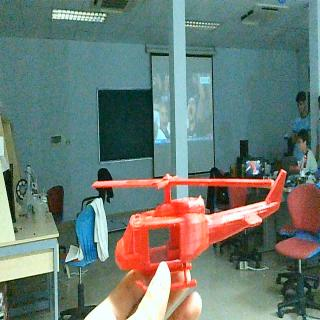Helicopter: (90, 173, 288, 293)
